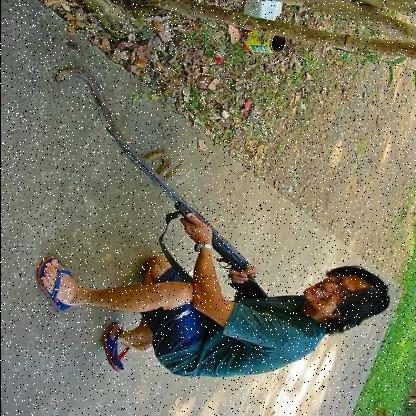rifle: (93, 121, 270, 294)
